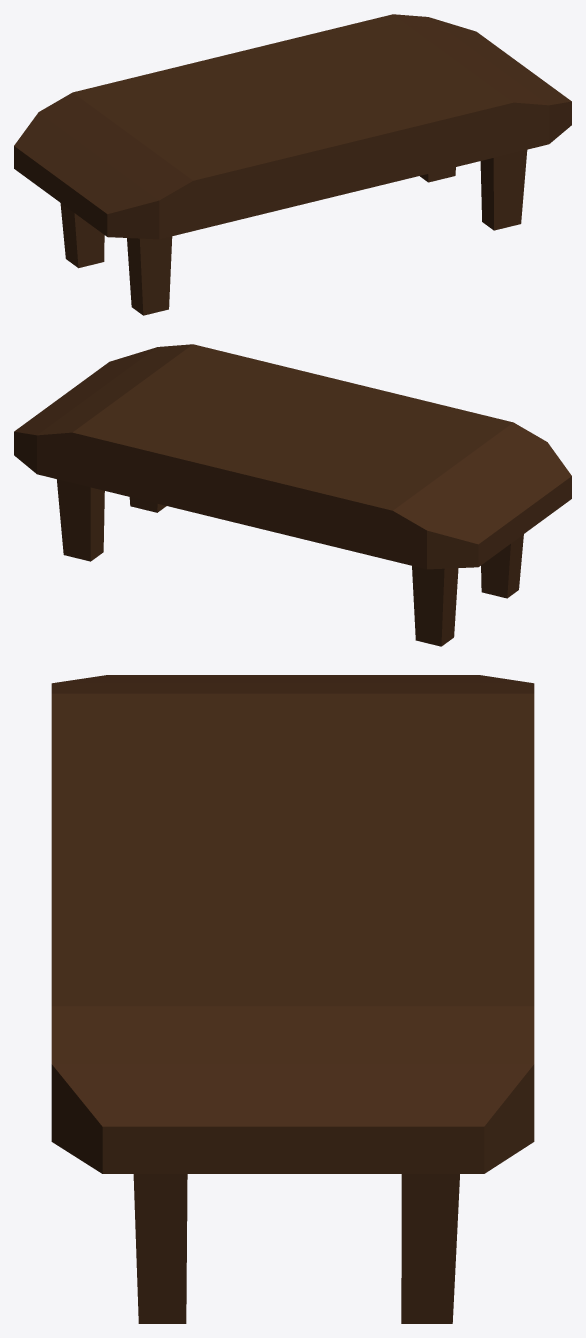
The model's file is coffee_table.fbx.
3 views of the same model, one above another, from view 1: azimuth 30°, elevation 25°; view 2: azimuth 150°, elevation 25°; view 3: azimuth 270°, elevation 25° (orthographic). The views are drawn at different scales.
Parts seen in each view (by area): view 1: Cube; view 2: Cube; view 3: Cube.
Boxes of the visible parts, x1=… form: Cube: x1=14, y1=14, x2=571, y2=315; Cube: x1=14, y1=344, x2=571, y2=646; Cube: x1=51, y1=675, x2=534, y2=1323.
Bounding box in the file's own units: 883 × 263 × 398.
